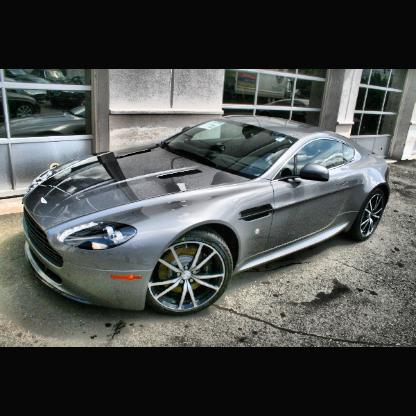Aston Martin V8 Vantage Coupe 2012: (19, 114, 393, 319)
